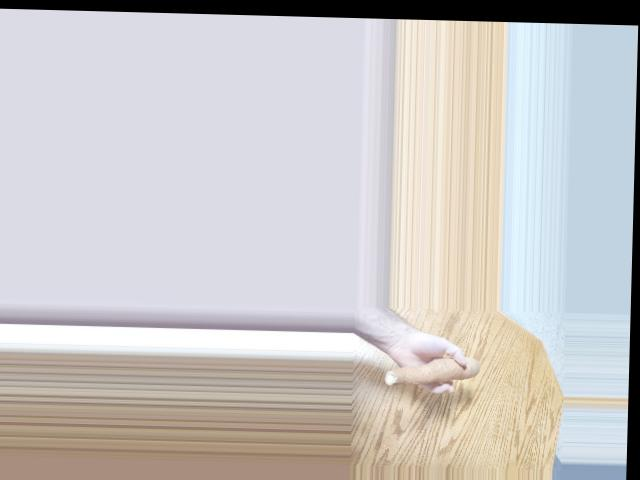sweet_potato: (387, 354, 478, 384)
